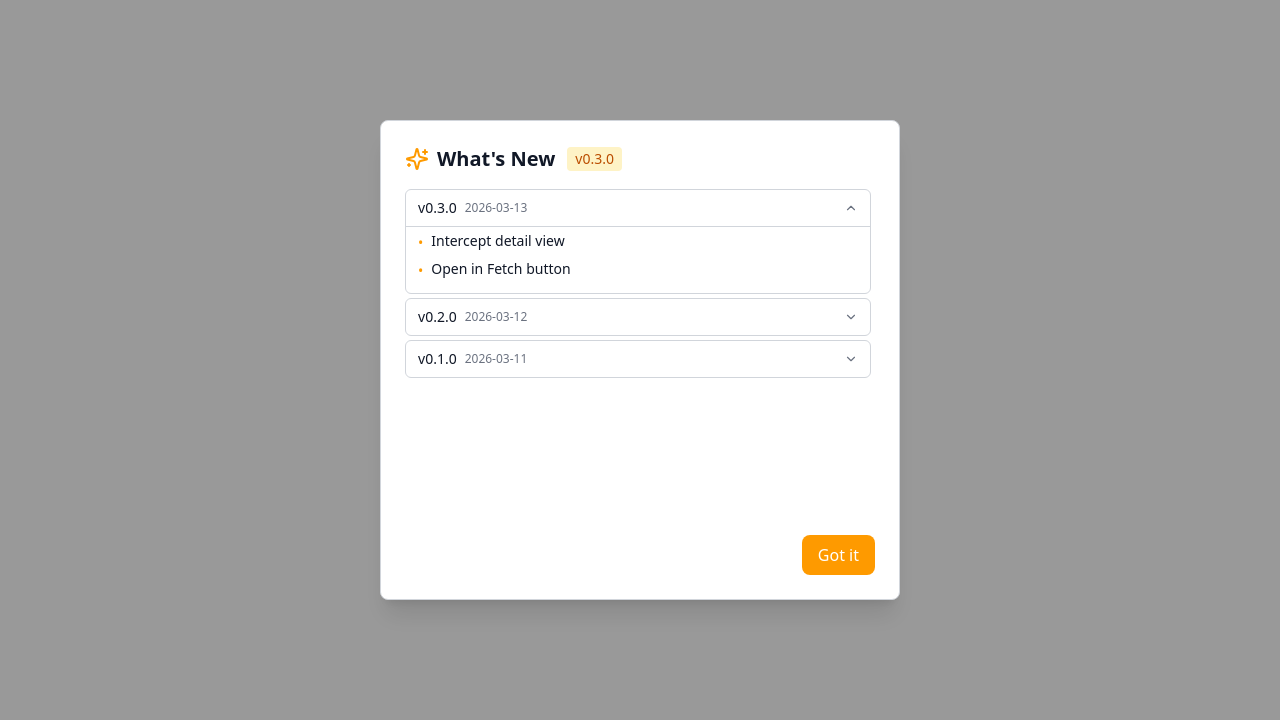
it: WhatsNewModal › collapses open version when its header is clicked again
Click the button "v0.3.0 2026-03-13".
click(441, 208)  # box [406,190,870,226]
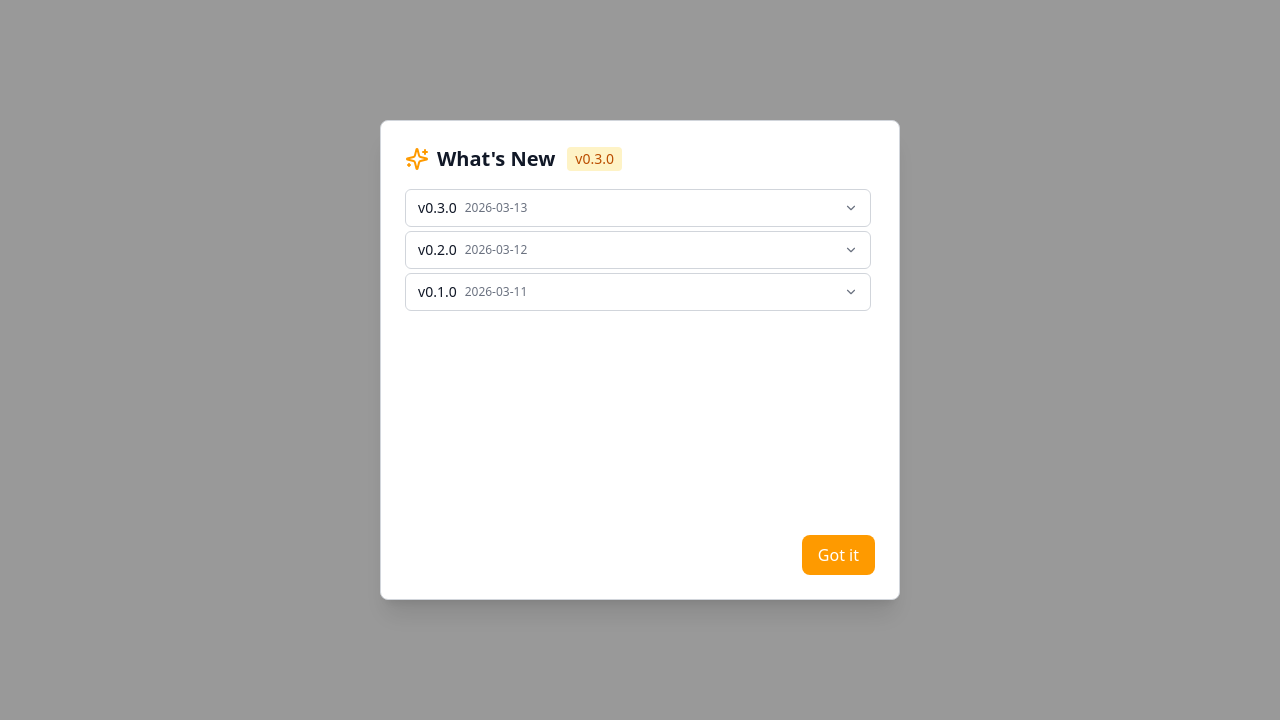
Expected: the text "Intercept detail view" is gone
